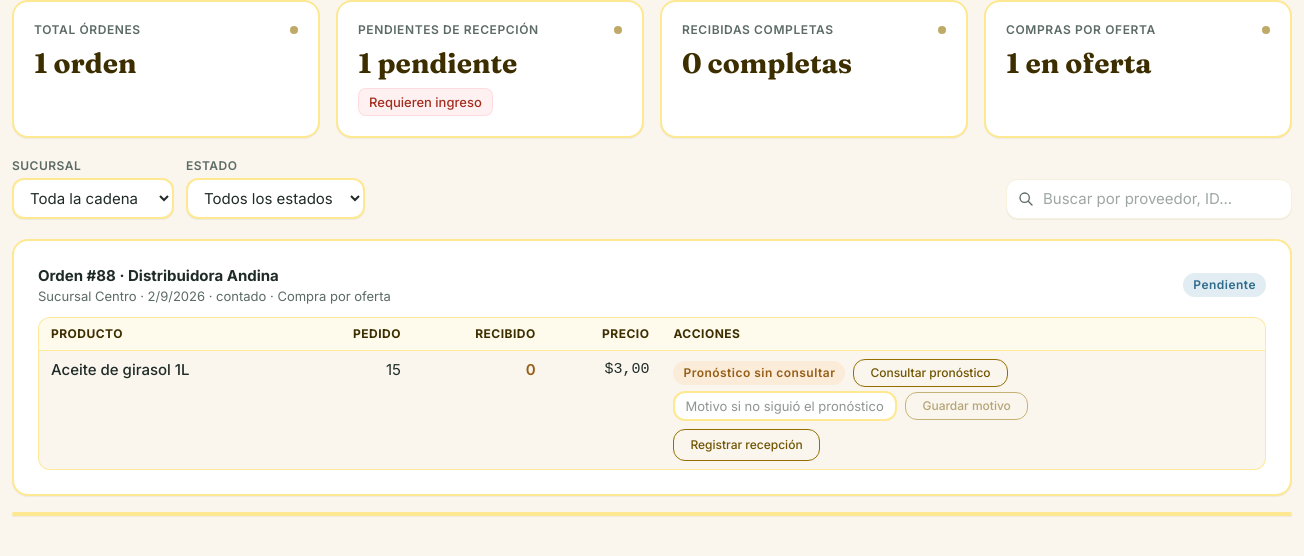
Test: Ordenes › consulta el pronóstico real de una compra por oferta y muestra la cantidad recomendada sin inventarla
The image size is (1304, 556).
Expected: the text "Aceite de girasol 1L" is shown, x1=39 y1=350 x2=298 y2=469
Click the button "Consultar pronóstico".
click(930, 373)  # box x1=853 y1=359 x2=1008 y2=387
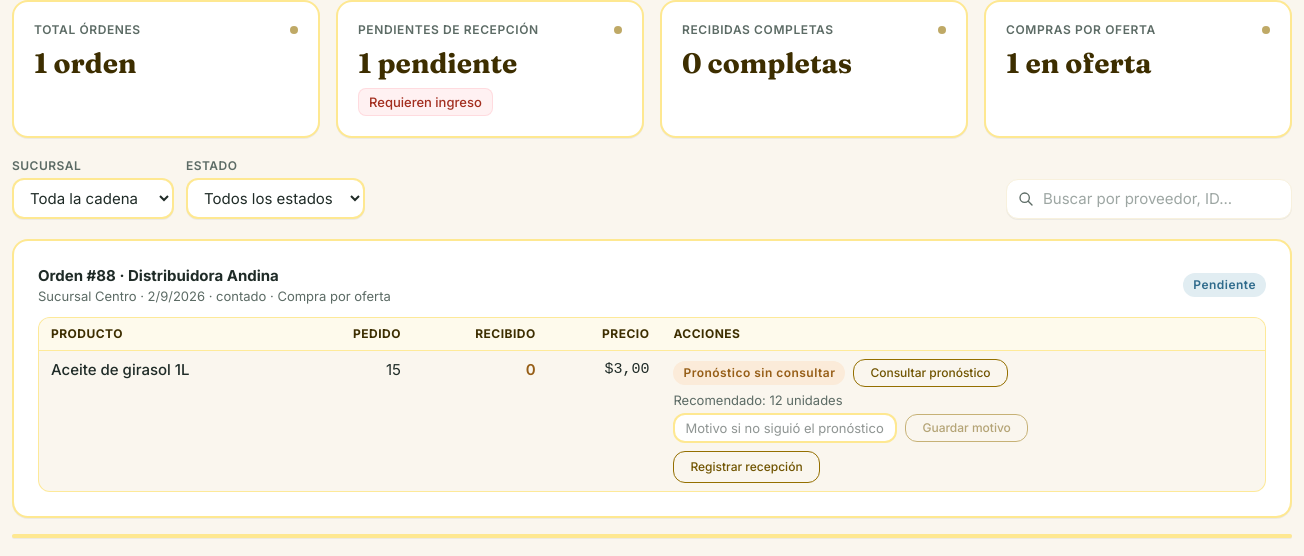
Expected: the text "Recomendado: 12 unidades" is shown, x1=673 y1=392 x2=842 y2=408
